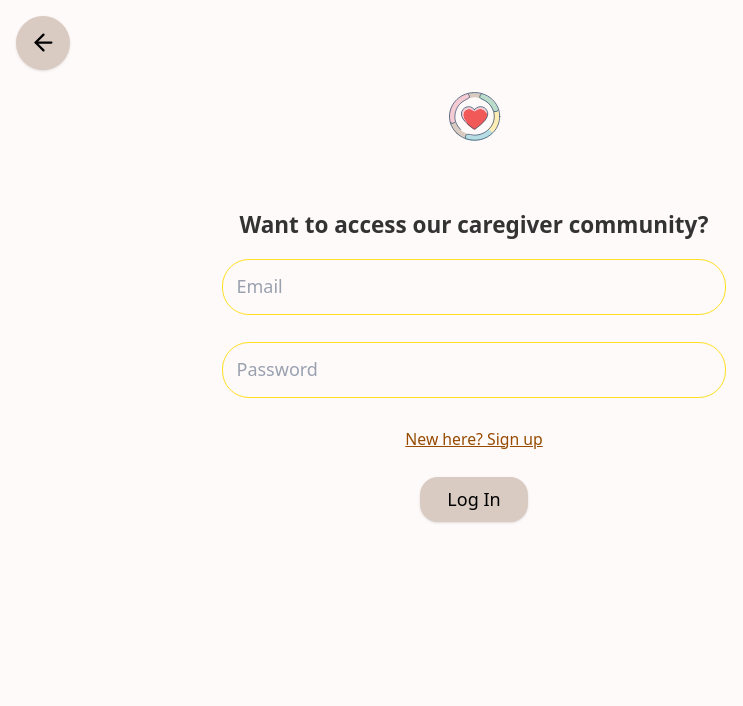
Test: <LoginPage /> › toggles to register
This screenshot has width=743, height=706.
Click the button "New here? Sign up" at (474, 439), box left=405, top=428, right=543, bottom=450
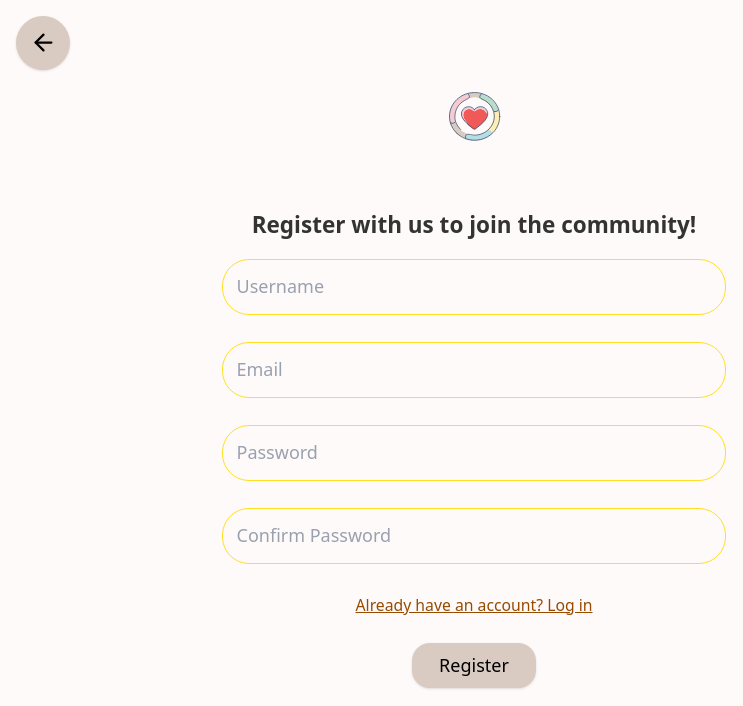
Result: the field with placeholder "Username" is shown at left=222, top=258, right=726, bottom=314
Result: the password field with placeholder "Confirm Password" is shown at left=222, top=508, right=726, bottom=564
Result: the button "Register" is shown at left=412, top=643, right=536, bottom=688
